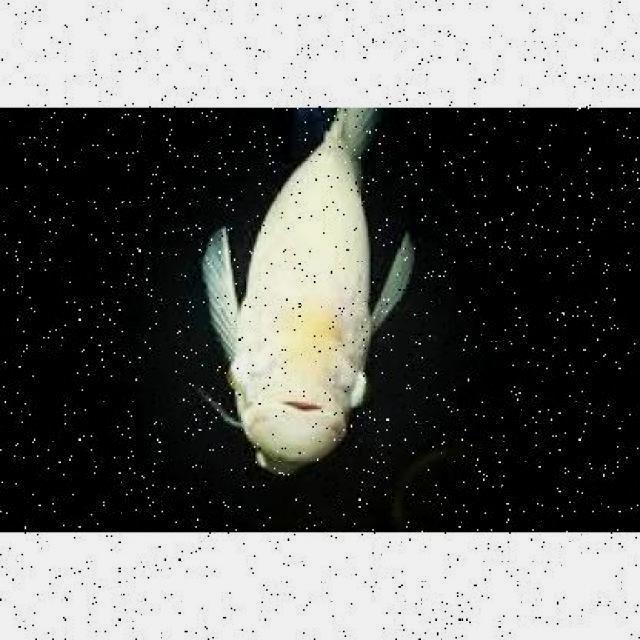gurame: (188, 106, 437, 469)
